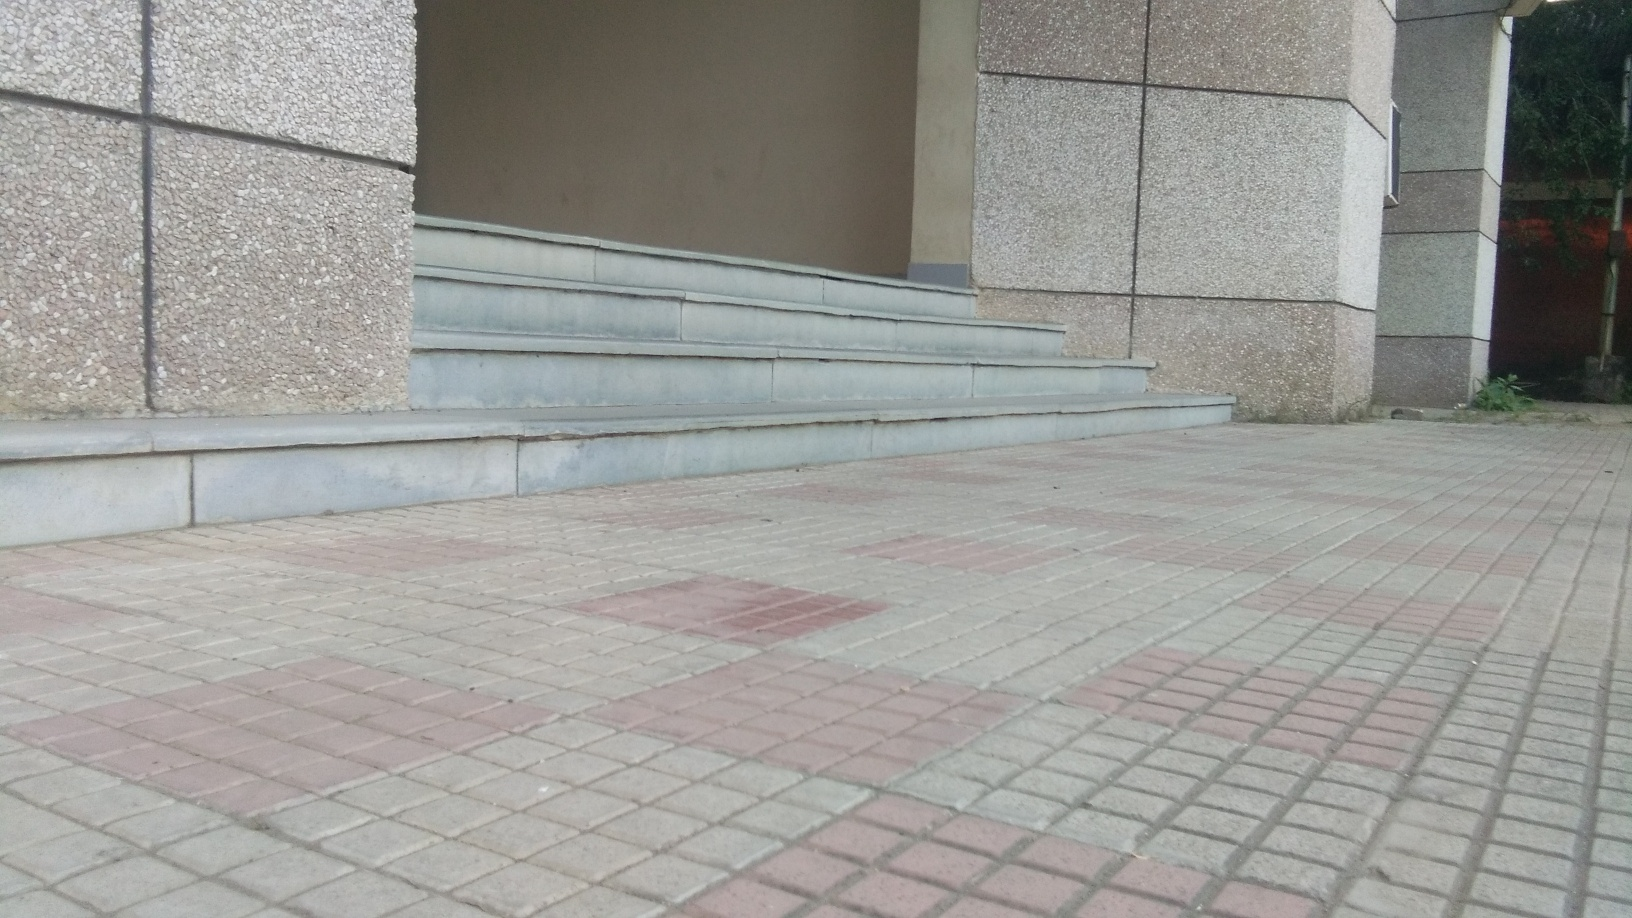stairs_up: (406, 212, 1191, 455)
